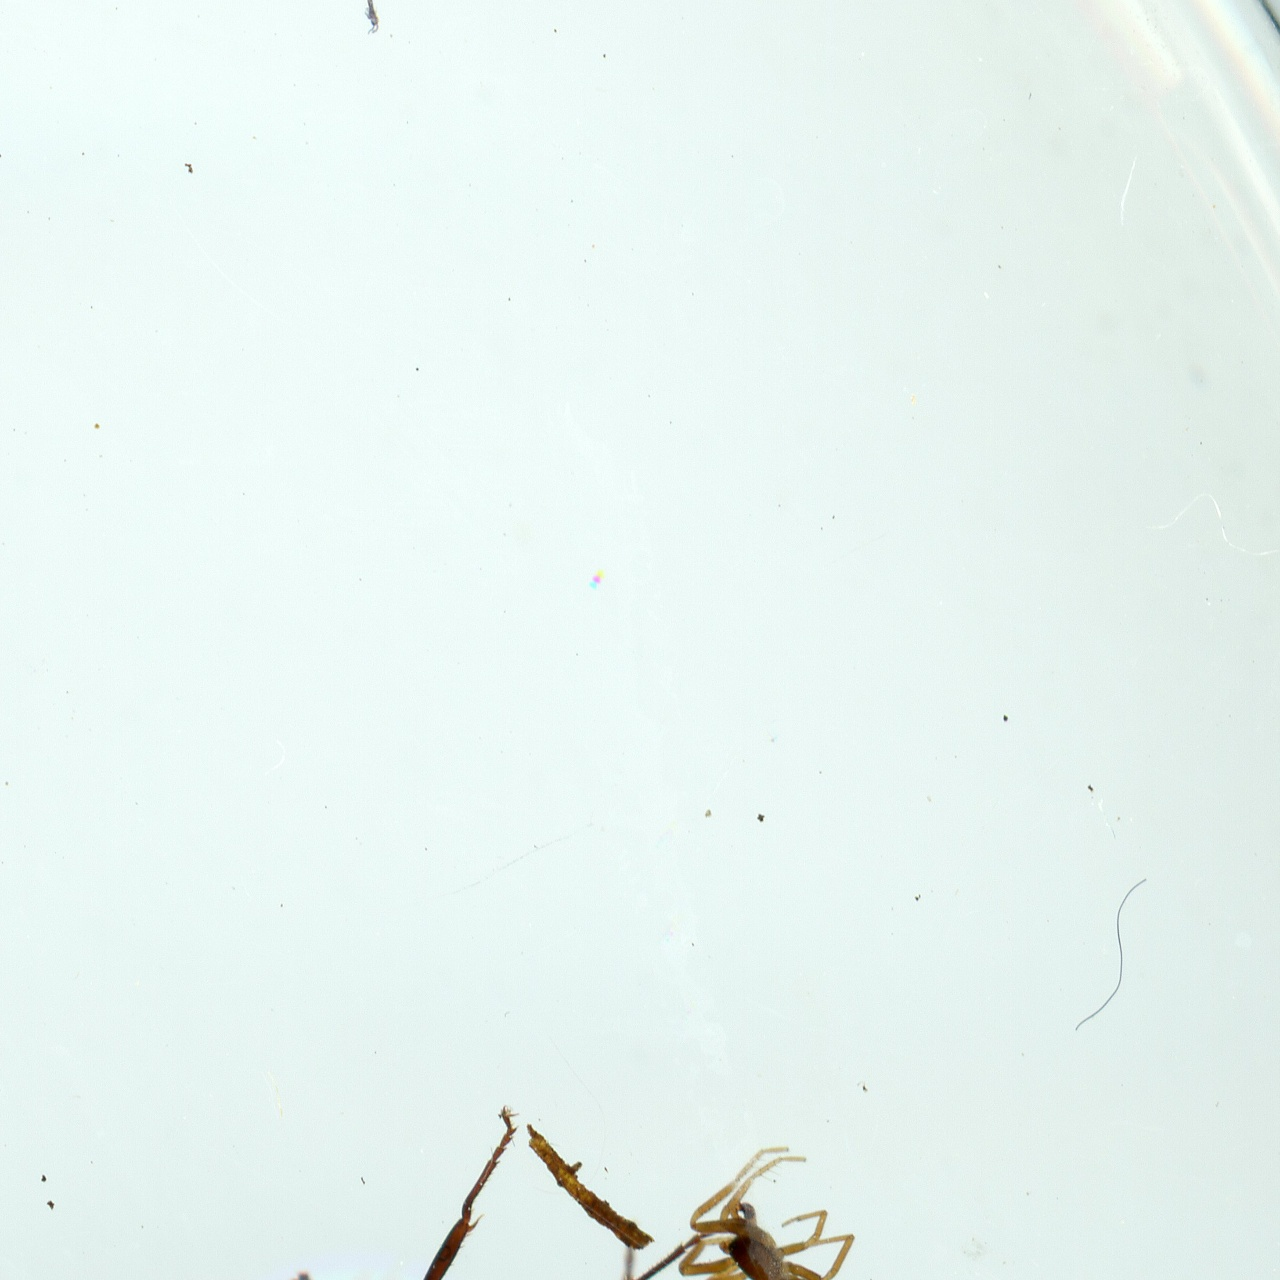arthropod: (50, 1099, 686, 1280), (668, 1138, 870, 1280), (363, 0, 383, 39)
